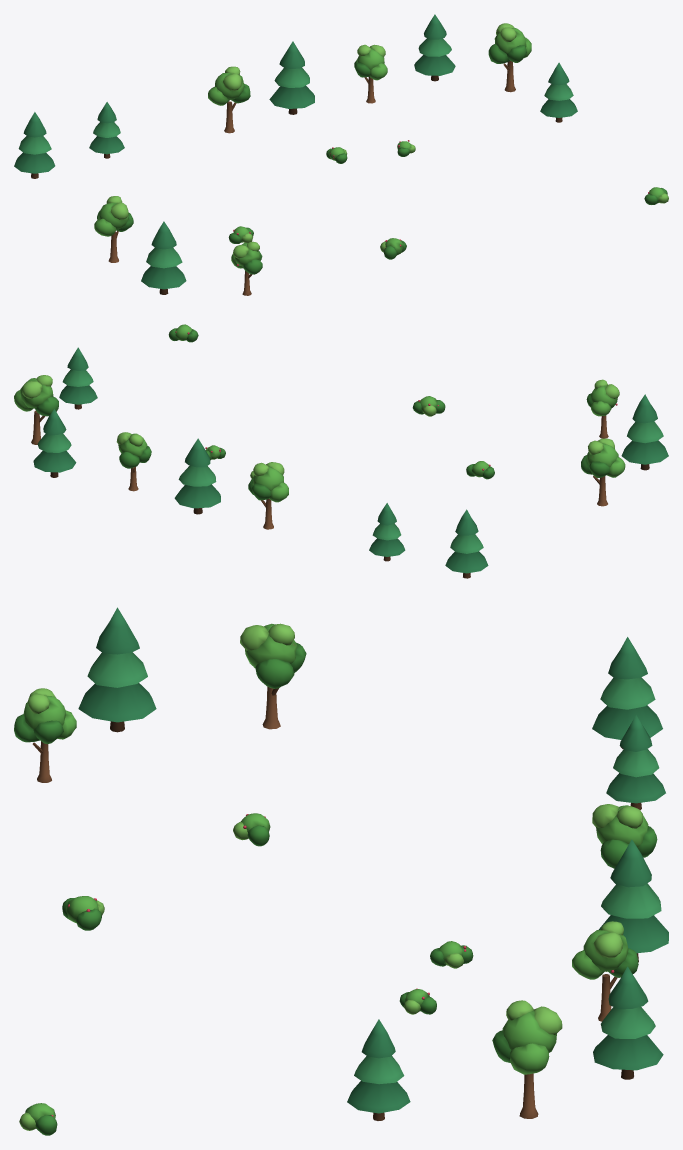
File: level_01_decor.glb
3 renders of one model, top to bottom at view 1: azimuth 30°, elevation 25°; view 2: azimuth 150°, elevation 25°; view 3: azimuth 270°, elevation 25°, orthographic. The views are drawn at different scales.
Parts seen in each view (by area): view 1: Decor; view 2: Decor; view 3: Decor.
Boxes of the visible parts, bbox=[...] form: Decor: bbox=[14, 14, 668, 295]; Decor: bbox=[14, 324, 668, 578]; Decor: bbox=[14, 607, 668, 1135].
Size of the model in its own units: 11.67 by 1.75 by 7.64.
Materials: 1 (1 with a texture image).
